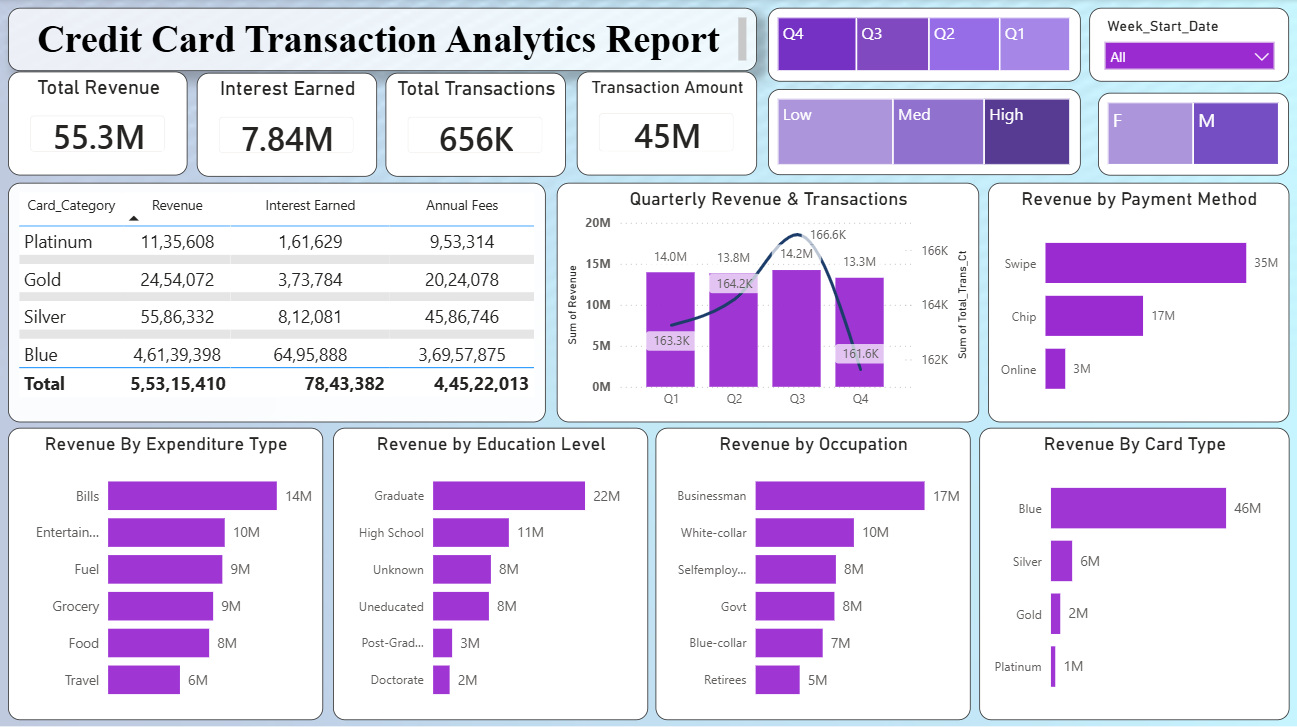

What the dashboard file says about the page in this screenshot:
{"tool":"powerbi","page":{"name":"Weekely Report","canvas":[1280,720],"ordinal":0},"visuals":[{"type":"textbox","box":[9.8,8.6,737.4,62.8],"z":0},{"type":"lineStackedColumnComboChart","title":"Quarterly Revenue & Transactions","fields":{"Category":["credit_card_db credit_card_details.Qtr"],"Y":["Sum(credit_card_db credit_card_details.Revenue)"],"Y2":["Sum(credit_card_db credit_card_details.Total_Trans_Ct)"]},"box":[550.3,181,416.1,236.4],"z":1000},{"type":"barChart","title":"Revenue By Expenditure Type","fields":{"Y":["Sum(credit_card_db credit_card_details.Revenue)"],"Category":["credit_card_db credit_card_details.Exp_Type"]},"box":[9.8,422.2,310,288.1],"z":2000},{"type":"barChart","title":"Revenue by Education Level","fields":{"Y":["Sum(credit_card_db credit_card_details.Revenue)"],"Category":["credit_card_db cust_detail.Education_Level"]},"box":[329.9,422.2,310.2,288.1],"z":3000},{"type":"barChart","title":"Revenue by Occupation","fields":{"Y":["Sum(credit_card_db credit_card_details.Revenue)"],"Category":["credit_card_db cust_detail.Customer_Job"]},"box":[647.5,422.2,310.2,288.1],"z":4000},{"type":"barChart","title":"Revenue By Card Type","fields":{"Y":["Sum(credit_card_db credit_card_details.Revenue)"],"Category":["credit_card_db credit_card_details.Card_Category"]},"box":[966.3,422.2,305.3,288.1],"z":5000},{"type":"barChart","title":"Revenue by Payment Method","fields":{"Y":["Sum(credit_card_db credit_card_details.Revenue)"],"Category":["credit_card_db credit_card_details.Use_Chip"]},"box":[975,181,296.7,236.4],"z":6000},{"type":"tableEx","fields":{"Values":["credit_card_db credit_card_details.Card_Category","Sum(credit_card_db credit_card_details.Revenue)","Sum(credit_card_db credit_card_details.Interest_Earned)","Sum(credit_card_db credit_card_details.Total_Trans_Amt)"]},"box":[9.8,181,529.3,236.4],"z":7000},{"type":"cardVisual","title":"Total Revenue","fields":{"Data":["Sum(credit_card_db credit_card_details.Revenue)"]},"box":[9.8,71.4,177,102.2],"z":8000},{"type":"cardVisual","title":"Transaction Amount","fields":{"Data":["Sum(credit_card_db credit_card_details.Total_Trans_Amt)"]},"box":[570,71.4,177.3,102.2],"z":9000},{"type":"cardVisual","title":"Interest Earned","fields":{"Data":["Sum(credit_card_db credit_card_details.Interest_Earned)"]},"box":[195.7,72.6,177.3,102.2],"z":10000},{"type":"cardVisual","title":"Total Transactions","fields":{"Data":["Sum(credit_card_db credit_card_details.Total_Trans_Ct)"]},"box":[381.6,72.6,177.3,102.2],"z":11000},{"type":"slicer","fields":{"Values":["credit_card_db credit_card_details.Week_Start_Date"]},"box":[1074.7,8.6,197,72.6],"z":12000},{"type":"treemap","fields":{"Group":["credit_card_db credit_card_details.Qtr"],"Values":["Avg(credit_card_db credit_card_details.Client_Num)"]},"box":[758.3,8.6,307.8,72.6],"z":13000},{"type":"treemap","fields":{"Group":["credit_card_db cust_detail.Gender"],"Values":["Avg(credit_card_db credit_card_details.Client_Num)"]},"box":[1083.3,92.3,188.3,81.2],"z":14000},{"type":"treemap","fields":{"Group":["credit_card_db cust_detail.IncomeGroup"],"Values":["Sum(credit_card_db credit_card_details.Client_Num)"]},"box":[758.3,88.6,307.8,84.9],"z":15000}]}

Visuals, with their boxes in screenshot pixels (x1, y1, x2, y2), scaled from the page's 1280x720 canvas onto the 1297x727 screenshot:
textbox: Rect(10, 9, 757, 72)
"Quarterly Revenue & Transactions" lineStackedColumnComboChart: Rect(558, 183, 979, 421)
"Revenue By Expenditure Type" barChart: Rect(10, 426, 324, 717)
"Revenue by Education Level" barChart: Rect(334, 426, 649, 717)
"Revenue by Occupation" barChart: Rect(656, 426, 970, 717)
"Revenue By Card Type" barChart: Rect(979, 426, 1288, 717)
"Revenue by Payment Method" barChart: Rect(988, 183, 1289, 421)
tableEx - credit_card_db credit_card_details.Card_Category x Sum(credit_card_db credit_card_details.Revenue): Rect(10, 183, 546, 421)
"Total Revenue" cardVisual: Rect(10, 72, 189, 175)
"Transaction Amount" cardVisual: Rect(578, 72, 757, 175)
"Interest Earned" cardVisual: Rect(198, 73, 378, 176)
"Total Transactions" cardVisual: Rect(387, 73, 566, 176)
slicer - credit_card_db credit_card_details.Week_Start_Date: Rect(1089, 9, 1289, 82)
treemap - credit_card_db credit_card_details.Qtr x Avg(credit_card_db credit_card_details.Client_Num): Rect(768, 9, 1080, 82)
treemap - credit_card_db cust_detail.Gender x Avg(credit_card_db credit_card_details.Client_Num): Rect(1098, 93, 1288, 175)
treemap - credit_card_db cust_detail.IncomeGroup x Sum(credit_card_db credit_card_details.Client_Num): Rect(768, 89, 1080, 175)
